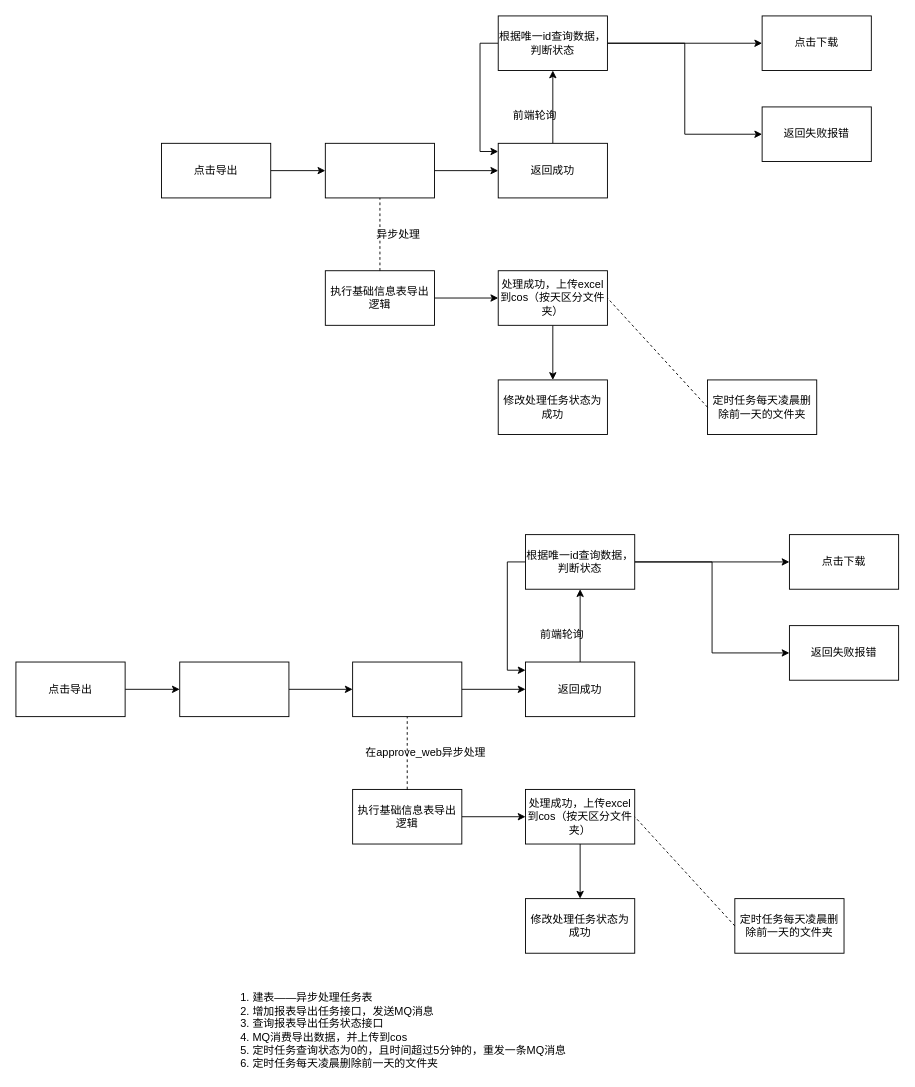
This 915x1087 diagram has some shape labels left out. The shapes that lost their labels are listed below. From the top down, each one's centre as x and y in pixels, then its label:
At [379,170]: "插入一条异步处理任务，状态为进行中".
At [234,689]: "redis锁".
At [407,689]: "插入一条异步处理任务，状态为进行中。同时发送一条MQ".
